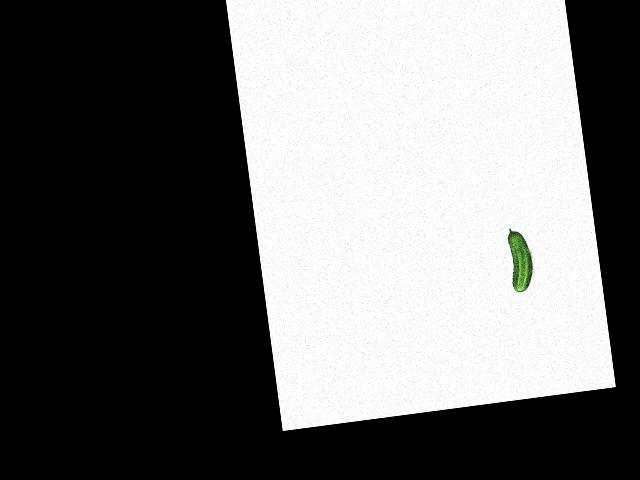cucumber: (505, 226, 536, 293)
